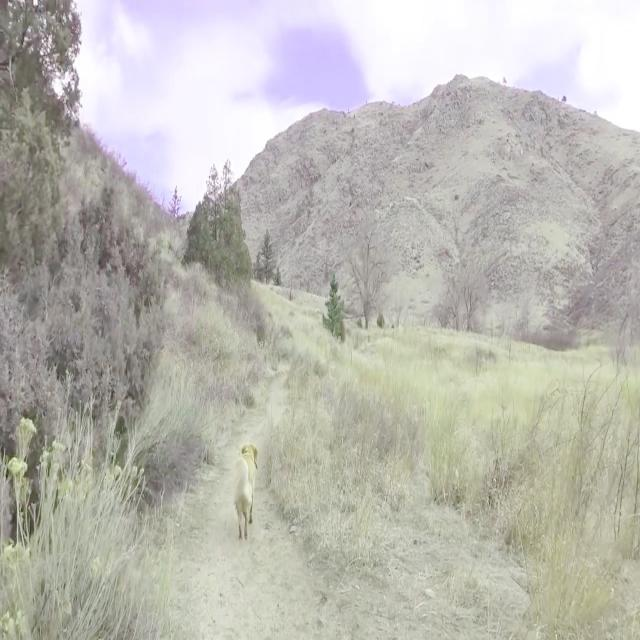Dog: (232, 442, 258, 542)
